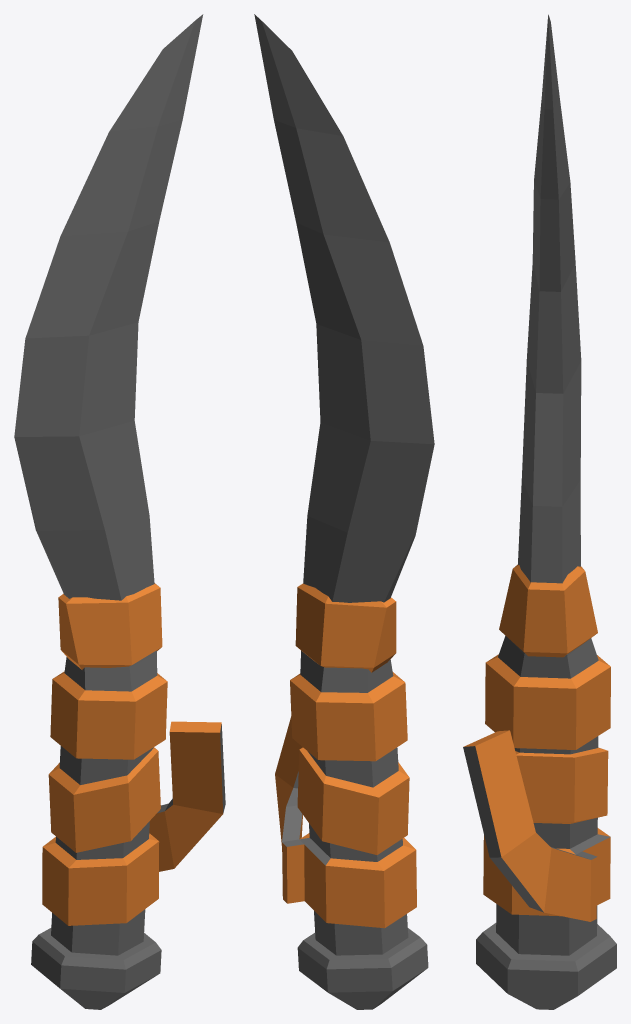
The model's file is knife_1.fbx.
The picture shows the model from 3 angles, left to right: view 1: azimuth 30°, elevation 25°; view 2: azimuth 150°, elevation 25°; view 3: azimuth 270°, elevation 25°; orthographic projection. The views are drawn at different scales.
Visible parts, largest first — view 1: knife_1_blade; view 2: knife_1_blade; view 3: knife_1_blade.
Boxes of the visible parts, x1,y1,x2,y2 form: knife_1_blade: (14,14,225,1009); knife_1_blade: (254,14,434,1009); knife_1_blade: (463,14,616,1009).
Bounding box in the file's own units: 15.04 × 74.64 × 9.94.
